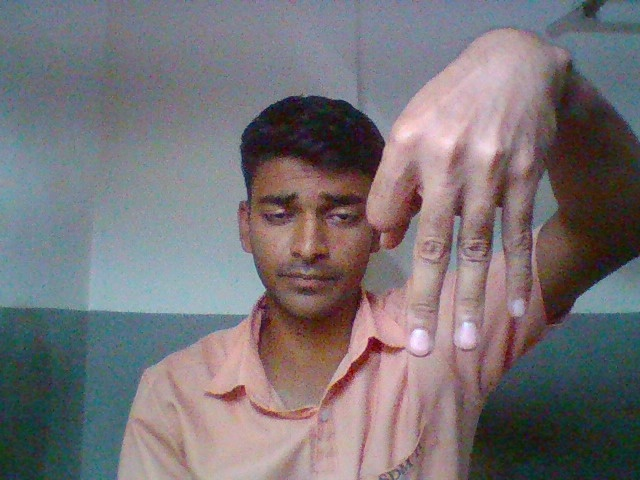M: (390, 24, 549, 365)
